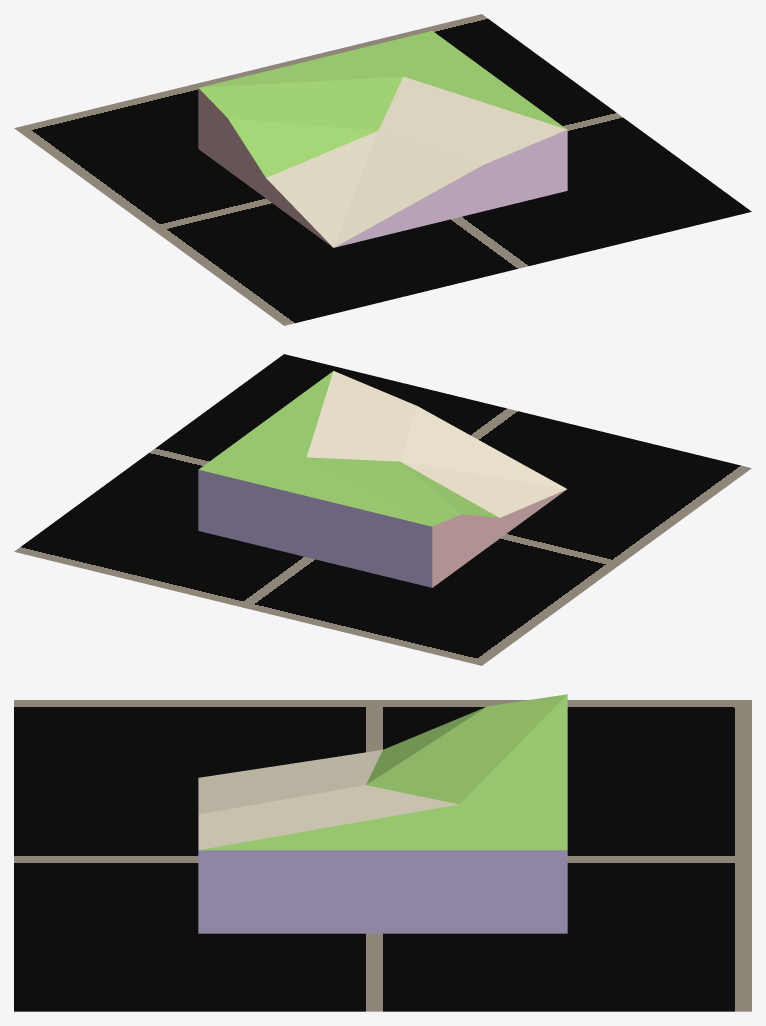
File: Path_Terrain_Transition_Grass_Side_Curve_1x1.glb
3 renders of one model, top to bottom at view 1: azimuth 30°, elevation 25°; view 2: azimuth 150°, elevation 25°; view 3: azimuth 270°, elevation 25°, orthographic. The views are drawn at different scales.
Parts seen in each view (by area): view 1: Floor, Path_Terrain_Transition_Grass_Side_Curve_1x1; view 2: Floor, Path_Terrain_Transition_Grass_Side_Curve_1x1; view 3: Floor, Path_Terrain_Transition_Grass_Side_Curve_1x1.
Boxes of the visible parts, <box> form: Floor: <box>14,14,751,325</box>; Path_Terrain_Transition_Grass_Side_Curve_1x1: <box>198,31,567,247</box>; Floor: <box>14,354,751,665</box>; Path_Terrain_Transition_Grass_Side_Curve_1x1: <box>198,371,566,587</box>; Floor: <box>14,700,751,1011</box>; Path_Terrain_Transition_Grass_Side_Curve_1x1: <box>198,694,567,933</box>.
Size of the model in its own units: 200 by 25 by 200.
Materials: 7 (1 with a texture image).
